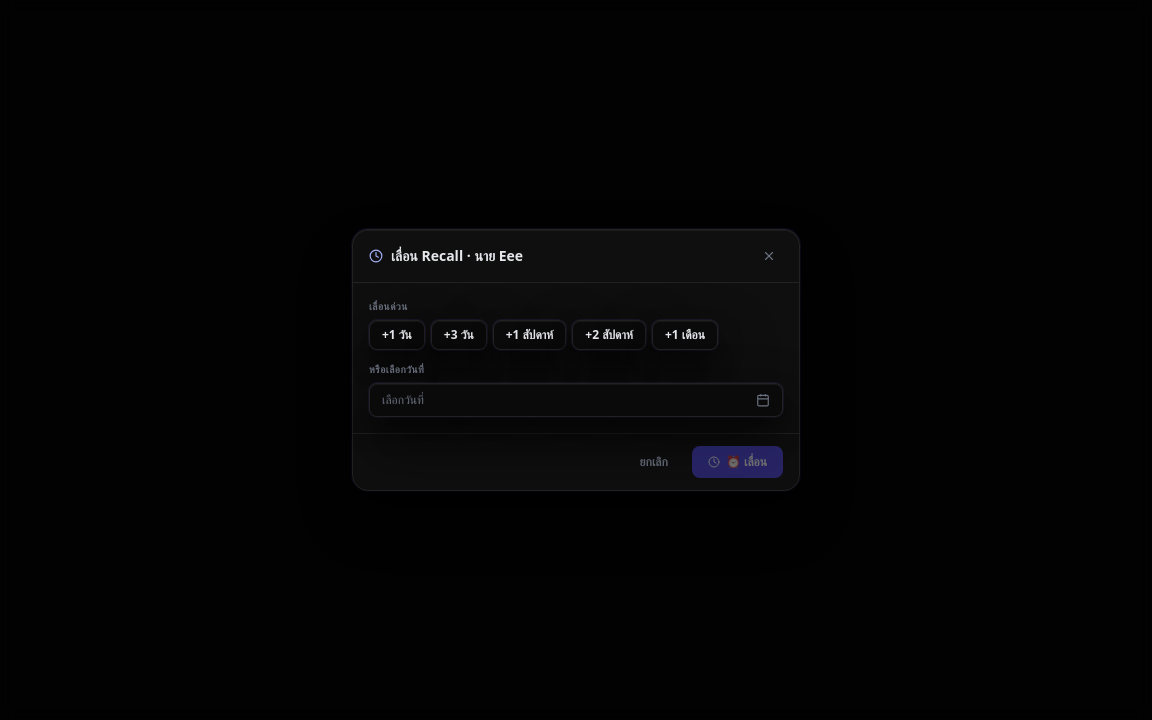
Test: Phase 29 · SN2 quick-pick selection › SN2.1 click quick-pick → selected + enable save
The width and height of the screenshot is (1152, 720).
Step 1. Click the button with test id "recall-snooze-quick-3" → (459, 335), box top-left (431, 320), bottom-right (487, 350)
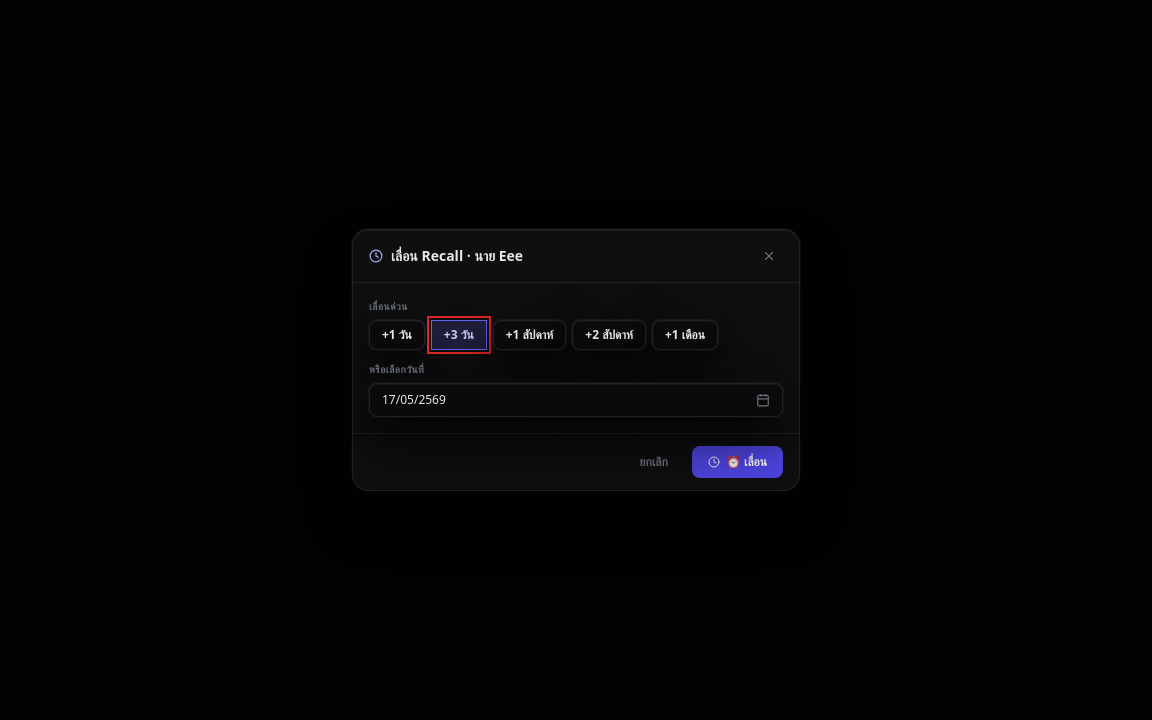
Check: the button with test id "recall-snooze-save" is enabled, box top-left (692, 446), bottom-right (783, 478)
